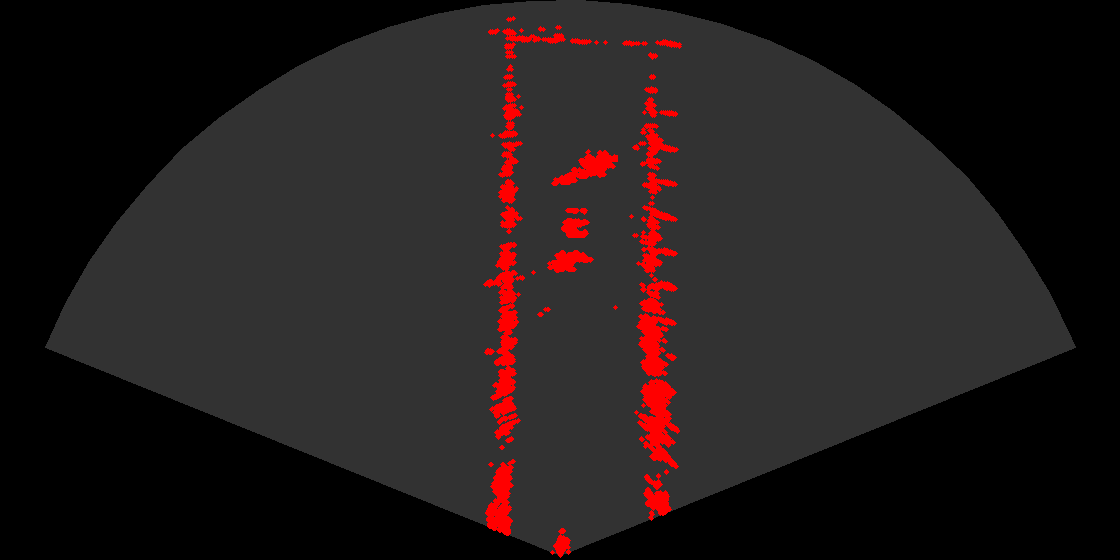AUV: (541, 248, 597, 280)
ball: (541, 200, 601, 241)
frogman: (550, 143, 618, 190)
